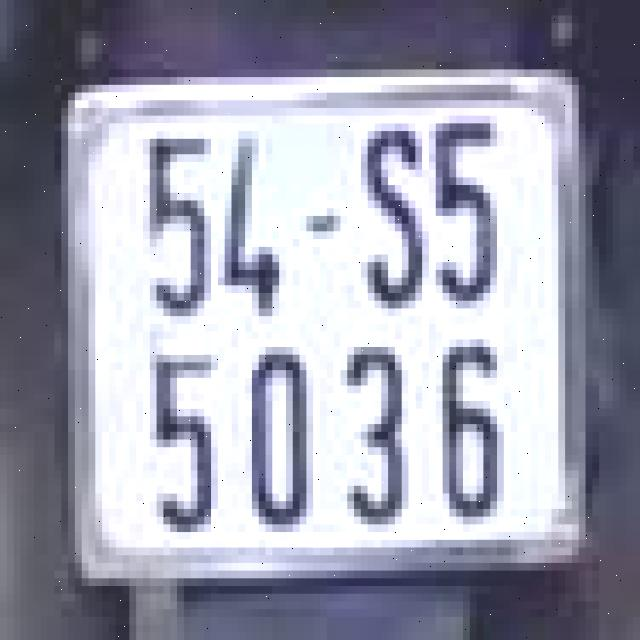0: (245, 332, 320, 532)
3: (330, 339, 419, 532)
4: (218, 120, 293, 320)
5: (136, 347, 225, 547), (140, 123, 214, 324), (432, 112, 508, 304)
6: (436, 332, 517, 524)
S: (354, 120, 429, 320)
